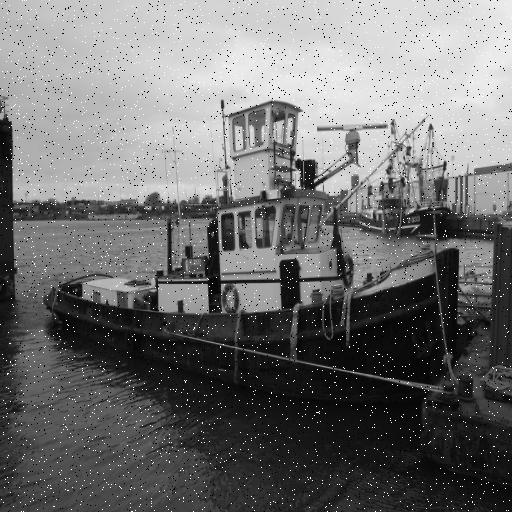tugboat: (47, 94, 469, 433)
